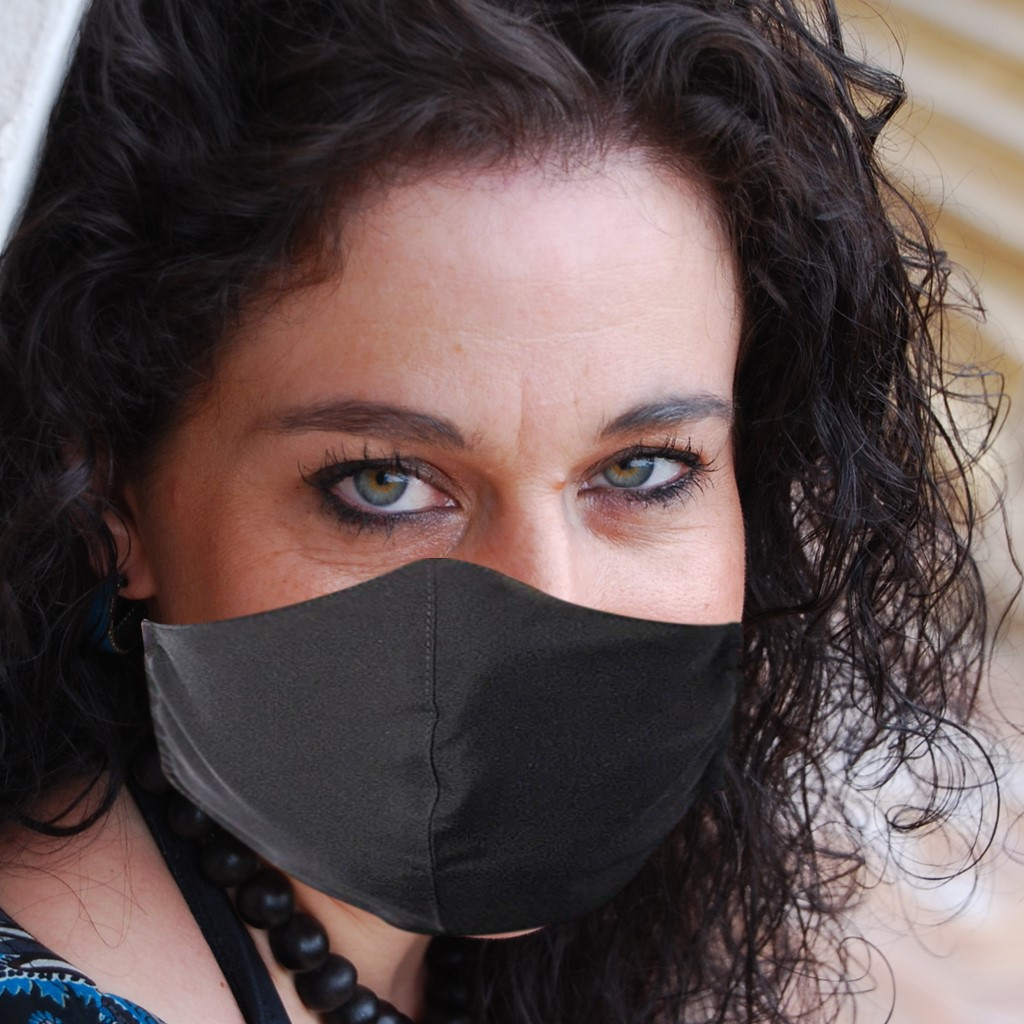con_mascara: (106, 110, 751, 932)
